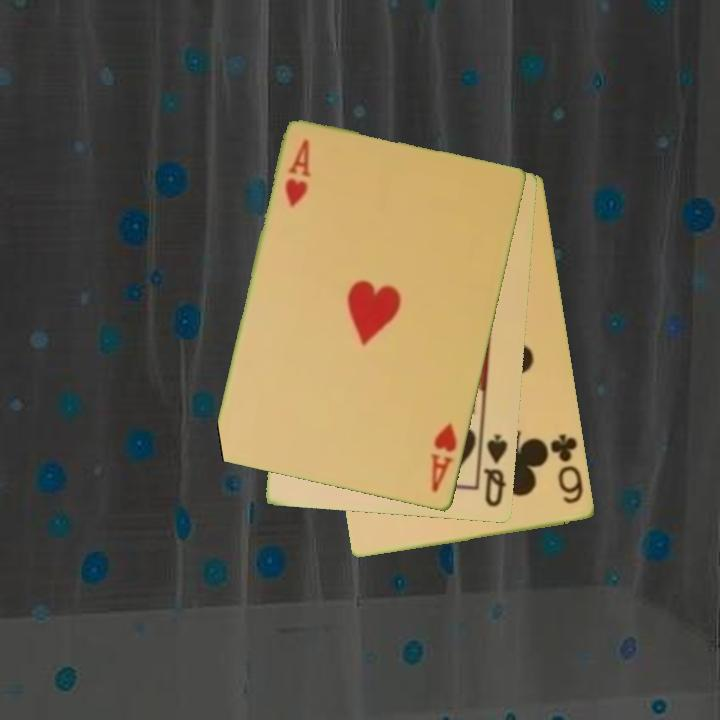6c: (547, 430, 587, 507)
Ah: (428, 420, 461, 496), (281, 136, 313, 211)
Qs: (481, 431, 511, 510)
